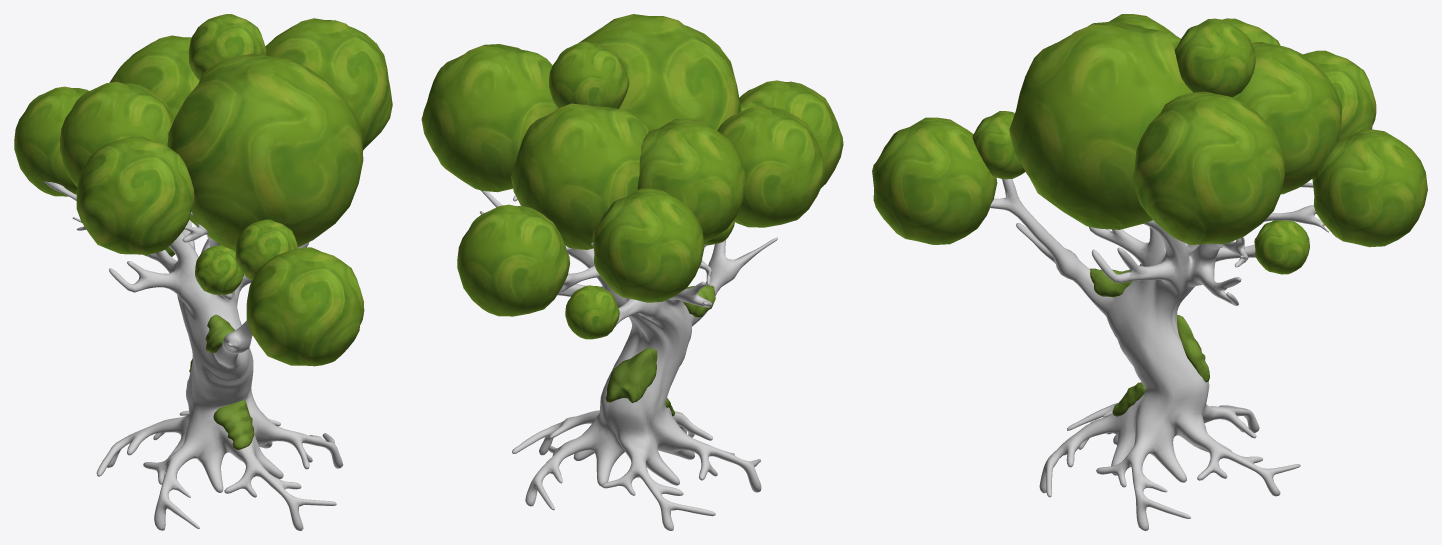
File: biggest_tree_with_leafs.fbx
3 renders of one model, left to right at view 1: azimuth 30°, elevation 25°; view 2: azimuth 150°, elevation 25°; view 3: azimuth 270°, elevation 25°, orthographic. The views are drawn at different scales.
Parts seen in each view (by area): view 1: leaf_sphare_lp.005, biggest_tree_retopo, leaf_sphare_lp.006, leaf_sphare_lp.007, leaf_sphare_lp.008, leaf_sphare_lp.002, leaf_sphare_lp.003, leaf_sphare_lp.001, leaf_sphare_lp.010, leaf_sphare_lp.012, moss_lp, leaf_sphare_lp.011; view 2: biggest_tree_retopo, leaf_sphare_lp.008, leaf_sphare_lp.001, leaf_sphare_lp.005, leaf_sphare_lp.003, leaf_sphare_lp.004, leaf_sphare_lp.006, leaf_sphare_lp.002, leaf_sphare_lp.010, leaf_sphare_lp.007, moss_lp, leaf_sphare_lp.009; view 3: biggest_tree_retopo, leaf_sphare_lp.005, leaf_sphare_lp.008, leaf_sphare_lp.007, leaf_sphare_lp.004, leaf_sphare_lp.001, leaf_sphare_lp.010, leaf_sphare_lp.003, leaf_sphare_lp.009, leaf_sphare_lp.012, moss_lp.
Part boxes in pixels (box(x1,y1,x2,y2)): leaf_sphare_lp.005: box(167, 53, 363, 250); biggest_tree_retopo: box(44, 181, 343, 530); leaf_sphare_lp.006: box(76, 136, 194, 254); leaf_sphare_lp.007: box(246, 247, 364, 366); leaf_sphare_lp.008: box(265, 18, 392, 150); leaf_sphare_lp.002: box(59, 81, 173, 187); leaf_sphare_lp.003: box(14, 86, 88, 196); leaf_sphare_lp.001: box(109, 35, 199, 119); leaf_sphare_lp.010: box(189, 14, 266, 80); leaf_sphare_lp.012: box(235, 219, 298, 279); moss_lp: box(189, 314, 254, 449); leaf_sphare_lp.011: box(195, 245, 243, 294); biggest_tree_retopo: box(479, 190, 777, 530); leaf_sphare_lp.008: box(421, 44, 557, 192); leaf_sphare_lp.001: box(511, 103, 648, 249); leaf_sphare_lp.005: box(579, 14, 741, 131); leaf_sphare_lp.003: box(592, 188, 704, 302); leaf_sphare_lp.004: box(457, 204, 570, 316); leaf_sphare_lp.006: box(717, 106, 825, 227); leaf_sphare_lp.002: box(637, 118, 746, 242); leaf_sphare_lp.010: box(549, 41, 629, 108); leaf_sphare_lp.007: box(739, 80, 843, 187); moss_lp: box(605, 285, 715, 416); leaf_sphare_lp.009: box(565, 285, 619, 339); biggest_tree_retopo: box(989, 179, 1328, 530); leaf_sphare_lp.005: box(1009, 21, 1192, 229); leaf_sphare_lp.008: box(1133, 91, 1285, 245); leaf_sphare_lp.007: box(872, 117, 997, 244); leaf_sphare_lp.004: box(1312, 129, 1427, 247); leaf_sphare_lp.001: box(1233, 42, 1341, 194); leaf_sphare_lp.010: box(1174, 18, 1255, 97); leaf_sphare_lp.003: box(1303, 50, 1376, 140); leaf_sphare_lp.009: box(1254, 220, 1309, 274); leaf_sphare_lp.012: box(972, 111, 1025, 179); moss_lp: box(1090, 268, 1209, 416).
Size of the model in its own units: 2513 by 3192 by 3401.
